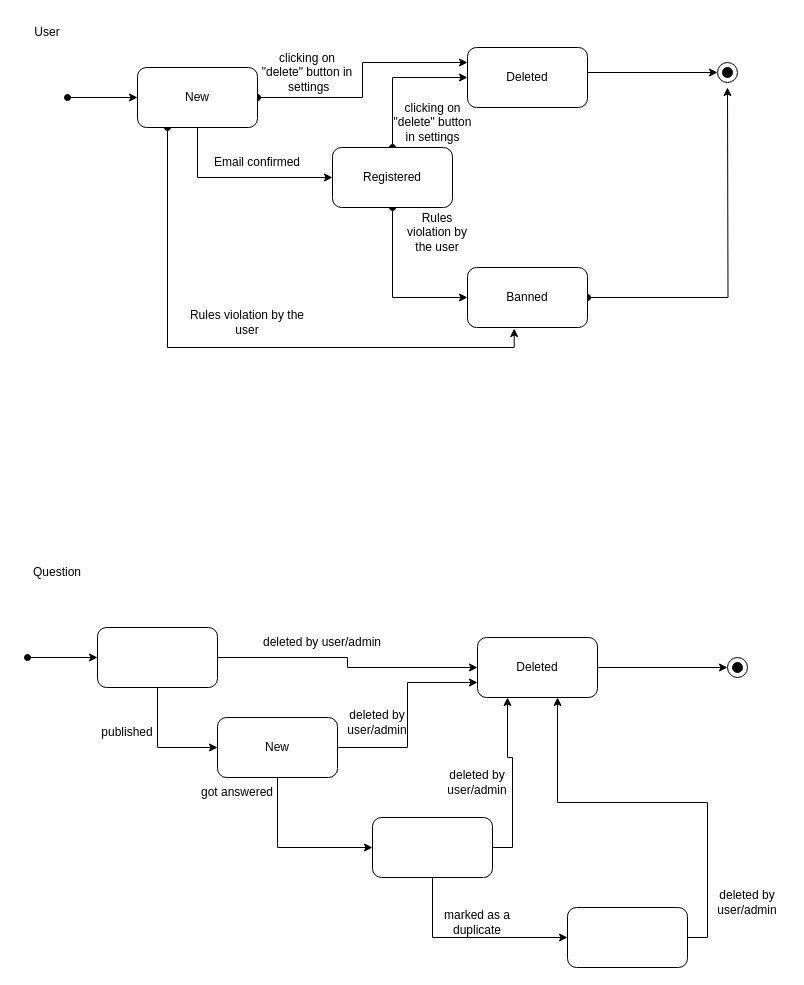
This 804x985 diagram has some shape labels left out. The centre of each missing label's shape, as x and y in pixels:
Answered: point 432,847
Draft: point 157,657
Duplicated: point 627,937
